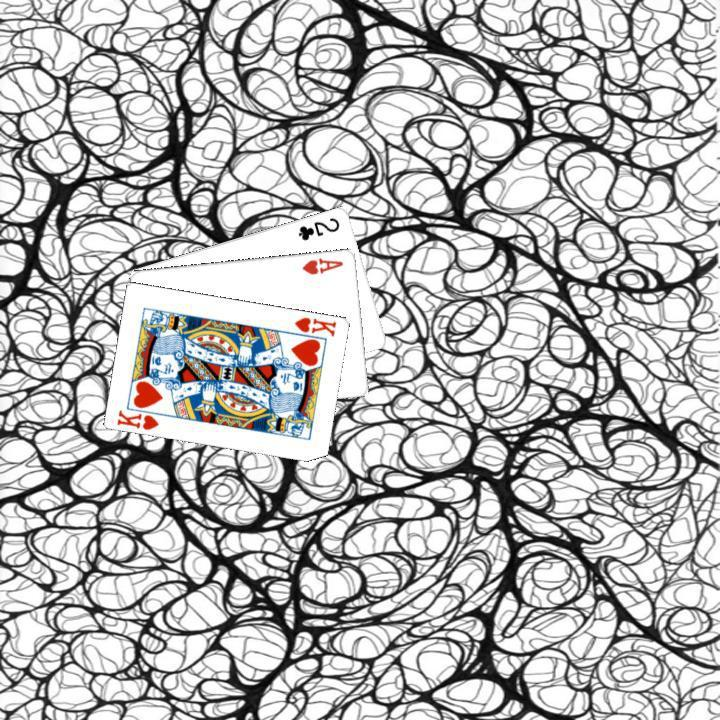2: (294, 213, 342, 242)
A: (298, 253, 345, 276)
K: (113, 405, 161, 432), (290, 312, 338, 338)
